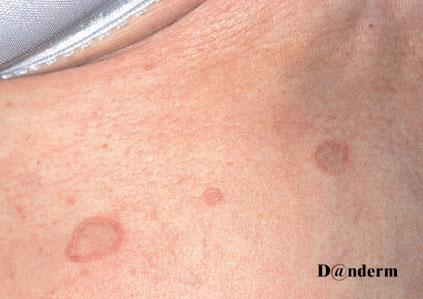annular lichen planus: (48, 188, 145, 278), (301, 126, 368, 192)
